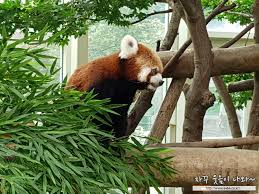redPanda: (55, 38, 169, 133)
